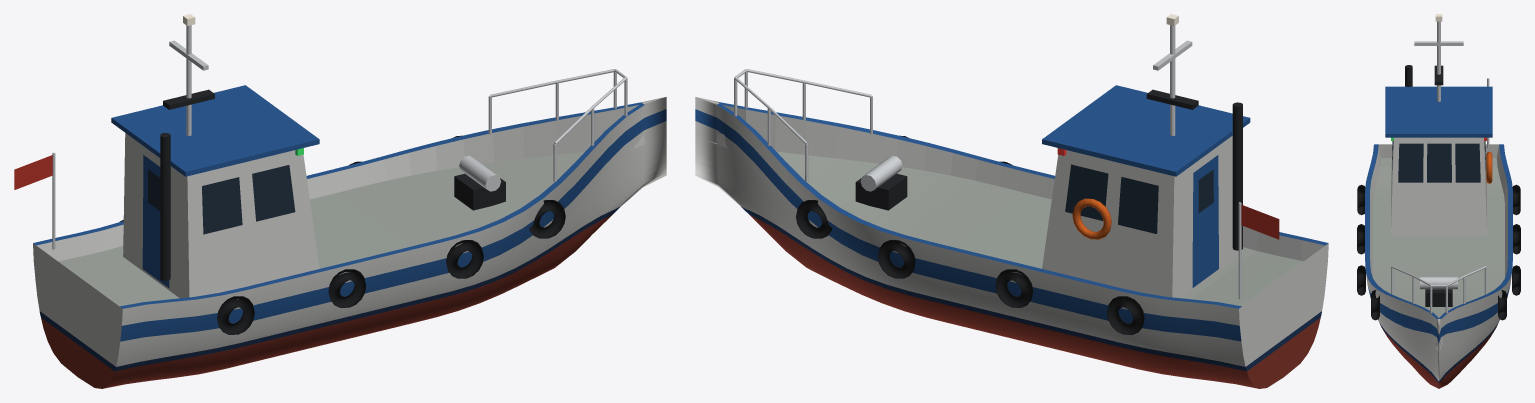
File: fishing_boat.glb
3 renders of one model, left to right at view 1: azimuth 30°, elevation 25°; view 2: azimuth 150°, elevation 25°; view 3: azimuth 270°, elevation 25°, orthographic. The views are drawn at different scales.
Visible parts, largest first — view 1: fishing_boat; view 2: fishing_boat; view 3: fishing_boat.
Boxes of the visible parts, bbox=[...] form: fishing_boat: bbox=[14, 14, 666, 388]; fishing_boat: bbox=[695, 14, 1328, 388]; fishing_boat: bbox=[1357, 14, 1520, 388].
Size of the model in its own units: 9.45 by 4.97 by 3.
